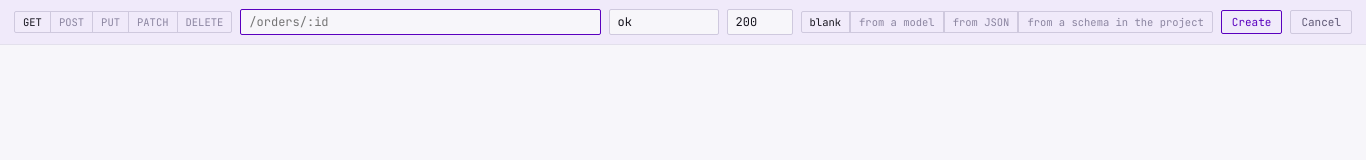
it: CreateEndpointRow › says what is wrong instead of disabling the button
Click the button "Create".
click(1252, 22)  # box [1221,10,1282,34]
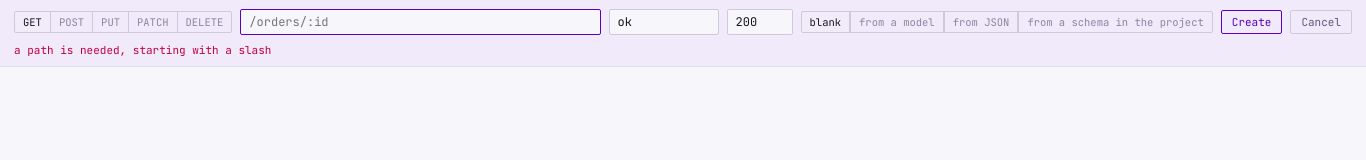
Now the message shows "path", box [14,43,271,57]
